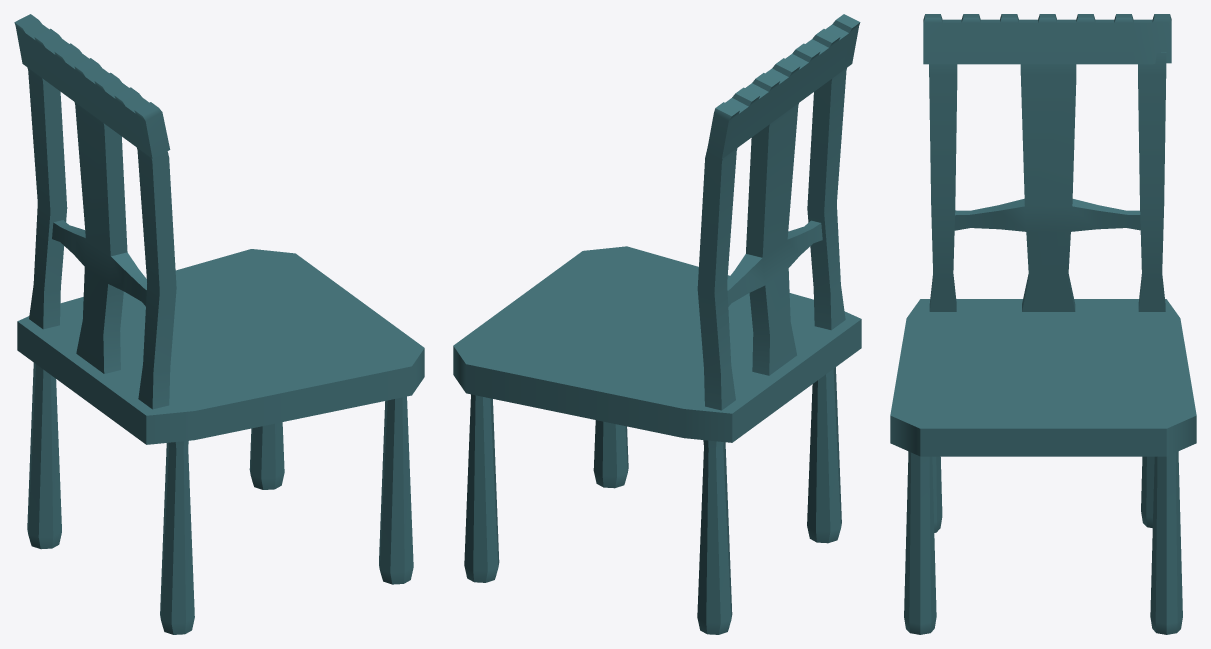
Rendered from chairObj.obj.
3 views of the same model, side by side, from view 1: azimuth 30°, elevation 25°; view 2: azimuth 150°, elevation 25°; view 3: azimuth 270°, elevation 25° (orthographic). The views are drawn at different scales.
Parts seen in each view (by area): view 1: ChairMain, ChairBackTwo, ChairBackTop, ChairBackOne, ChairBackThree, Leg3, ChairLeg, Leg4, Leg1; view 2: ChairMain, ChairBackTwo, ChairBackTop, ChairBackThree, ChairBackOne, Leg4, Leg1, Leg3, ChairLeg; view 3: ChairMain, ChairBackTwo, ChairBackTop, ChairBackThree, ChairBackOne, Leg1, ChairLeg, Leg4, Leg3.
Part boxes in pixels (x1,y1,x2,y2): ChairMain: (17,249,424,444); ChairBackTwo: (52,102,146,373); ChairBackTop: (14,14,170,158); ChairBackOne: (137,148,176,409); ChairBackThree: (27,67,67,329); Leg3: (160,440,194,634); ChairLeg: (379,396,413,584); Leg4: (27,363,61,549); Leg1: (249,422,284,489); ChairMain: (453,246,861,442); ChairBackTwo: (727,103,822,375); ChairBackTop: (707,14,860,159); ChairBackThree: (697,148,737,410); ChairBackOne: (807,68,846,330); Leg4: (697,440,732,634); Leg1: (464,394,499,582); Leg3: (807,367,841,543); ChairLeg: (593,420,628,488); ChairMain: (890,299,1196,456); ChairBackTwo: (954,64,1140,311); ChairBackTop: (923,14,1171,64); ChairBackThree: (1138,52,1166,311); ChairBackOne: (929,64,957,311); Leg1: (1150,451,1182,634); ChairLeg: (904,451,936,634); Leg4: (1141,456,1154,527); Leg3: (932,456,942,532).
Bounding box in the file's own units: 5.53 × 9.95 × 5.5.
